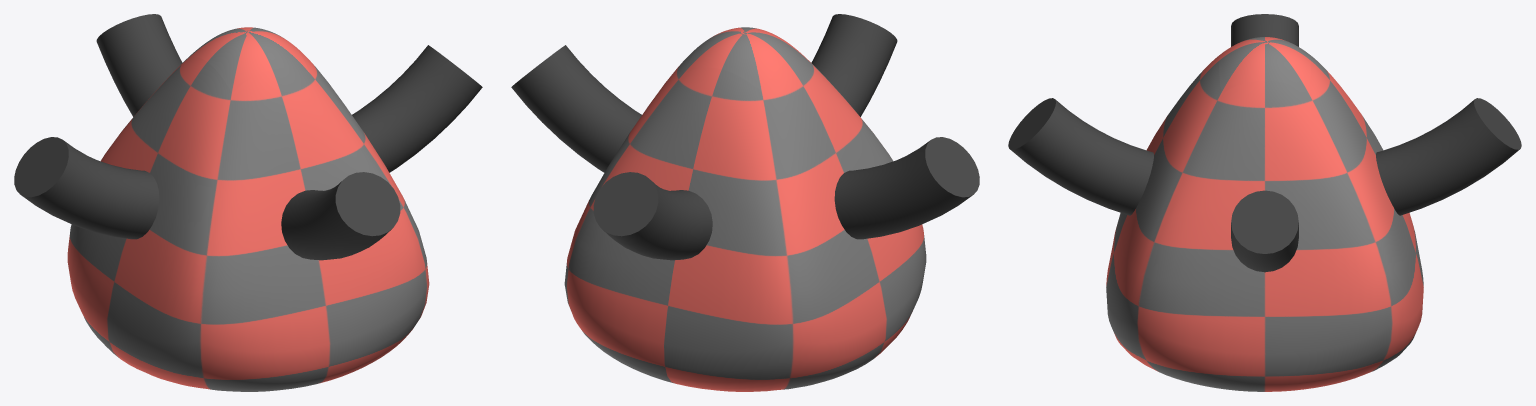
The model's file is Body(Pyramidal)+Colour(More_Red)+Arms(Bent_Up)+Pattern(Checkered).fbx.
The picture shows the model from 3 angles, left to right: view 1: azimuth 30°, elevation 25°; view 2: azimuth 150°, elevation 25°; view 3: azimuth 270°, elevation 25°; orthographic projection. The views are drawn at different scales.
Parts seen in each view (by area): view 1: Body(Pyramidal)+Colour(More_Red)+Arms(Bent_Up)+Pattern(Check (×5); view 2: Body(Pyramidal)+Colour(More_Red)+Arms(Bent_Up)+Pattern(Check (×5); view 3: Body(Pyramidal)+Colour(More_Red)+Arms(Bent_Up)+Pattern(Check (×5).
Part boxes in pixels (x1,y1,x2,y2): Body(Pyramidal)+Colour(More_Red)+Arms(Bent_Up)+Pattern(Check (×5): [14, 14, 482, 391]; Body(Pyramidal)+Colour(More_Red)+Arms(Bent_Up)+Pattern(Check (×5): [511, 14, 979, 391]; Body(Pyramidal)+Colour(More_Red)+Arms(Bent_Up)+Pattern(Check (×5): [1008, 14, 1521, 391].
Bounding box in the file's own units: 60.67 × 40 × 60.67.
2 materials, 2 textured.
